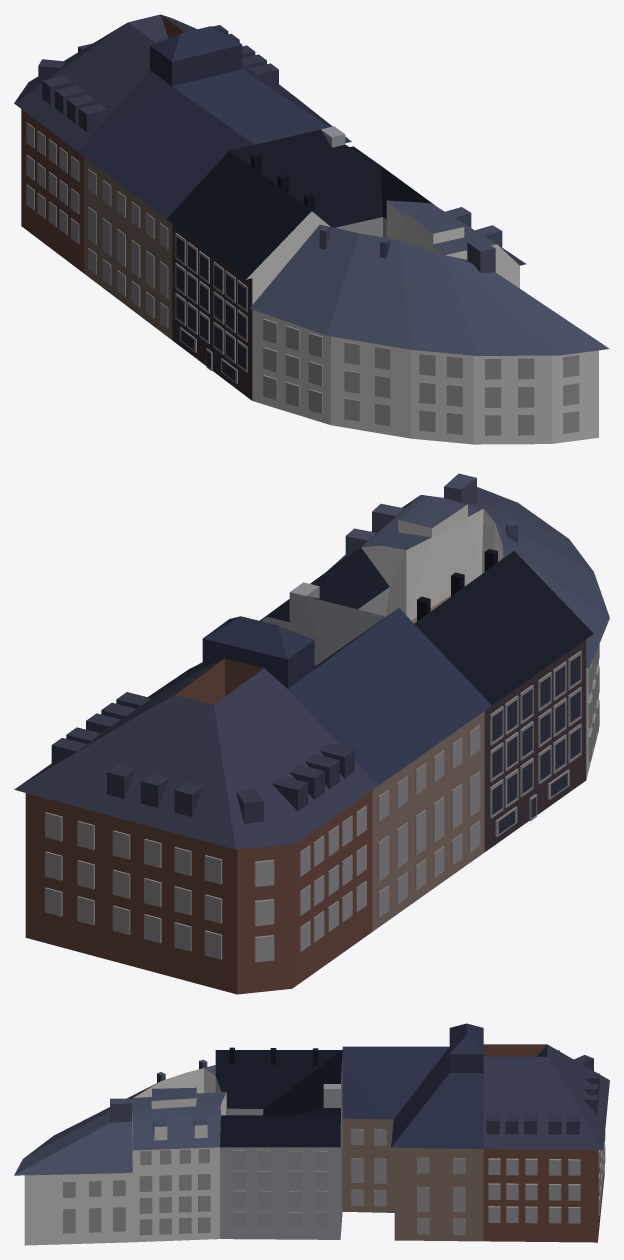
File: Building_02.fbx
3 views of the same model, one above another, from view 1: azimuth 30°, elevation 25°; view 2: azimuth 150°, elevation 25°; view 3: azimuth 270°, elevation 25° (orthographic). The views are drawn at different scales.
Parts seen in each view (by area): view 1: Building_02; view 2: Building_02; view 3: Building_02.
Part boxes in pixels (x1,y1,x2,y2): Building_02: [14, 14, 609, 444]; Building_02: [14, 473, 609, 994]; Building_02: [14, 1023, 609, 1245].
Size of the model in its own units: 21.48 by 19.89 by 62.06.
